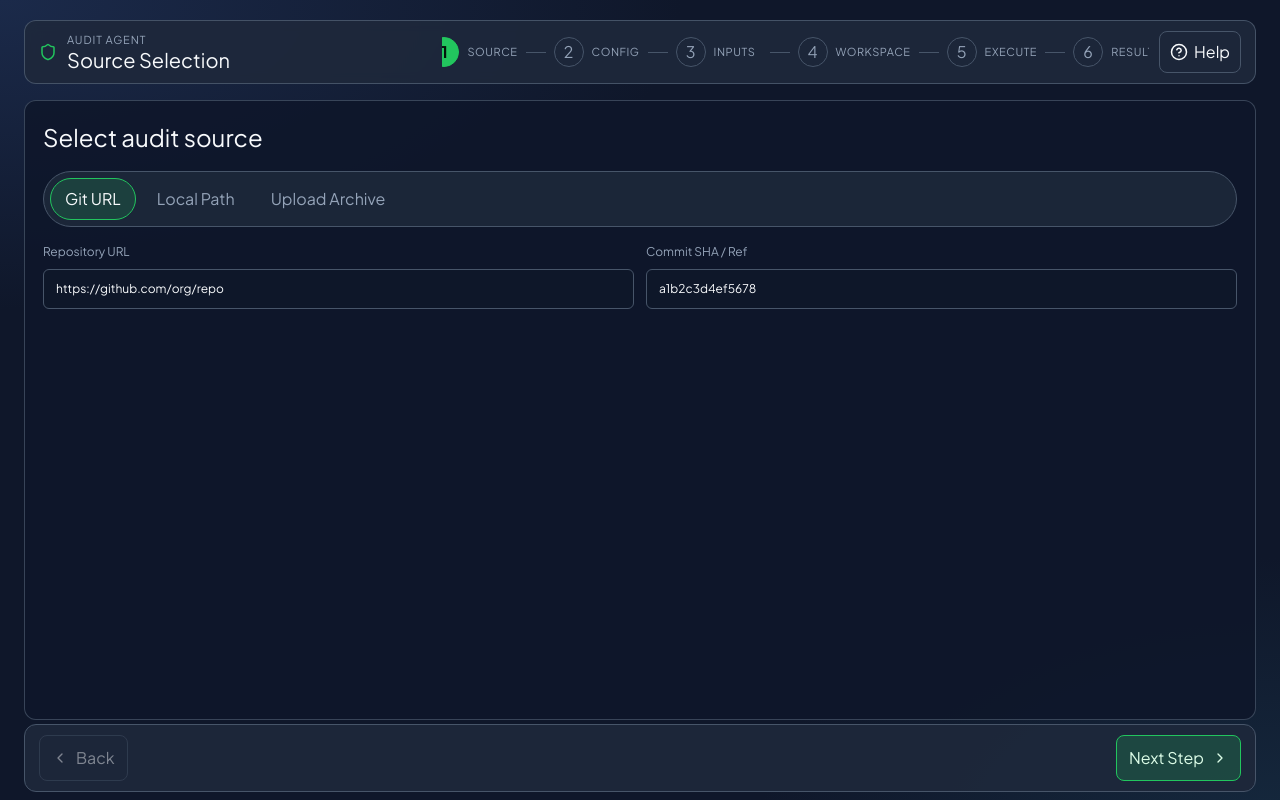
Test: App layout shell › syncs finding detail when a finding is selected in results view
Click the button named "step 6". click: [1088, 52]
box: x1=1073 y1=37 x2=1103 y2=67
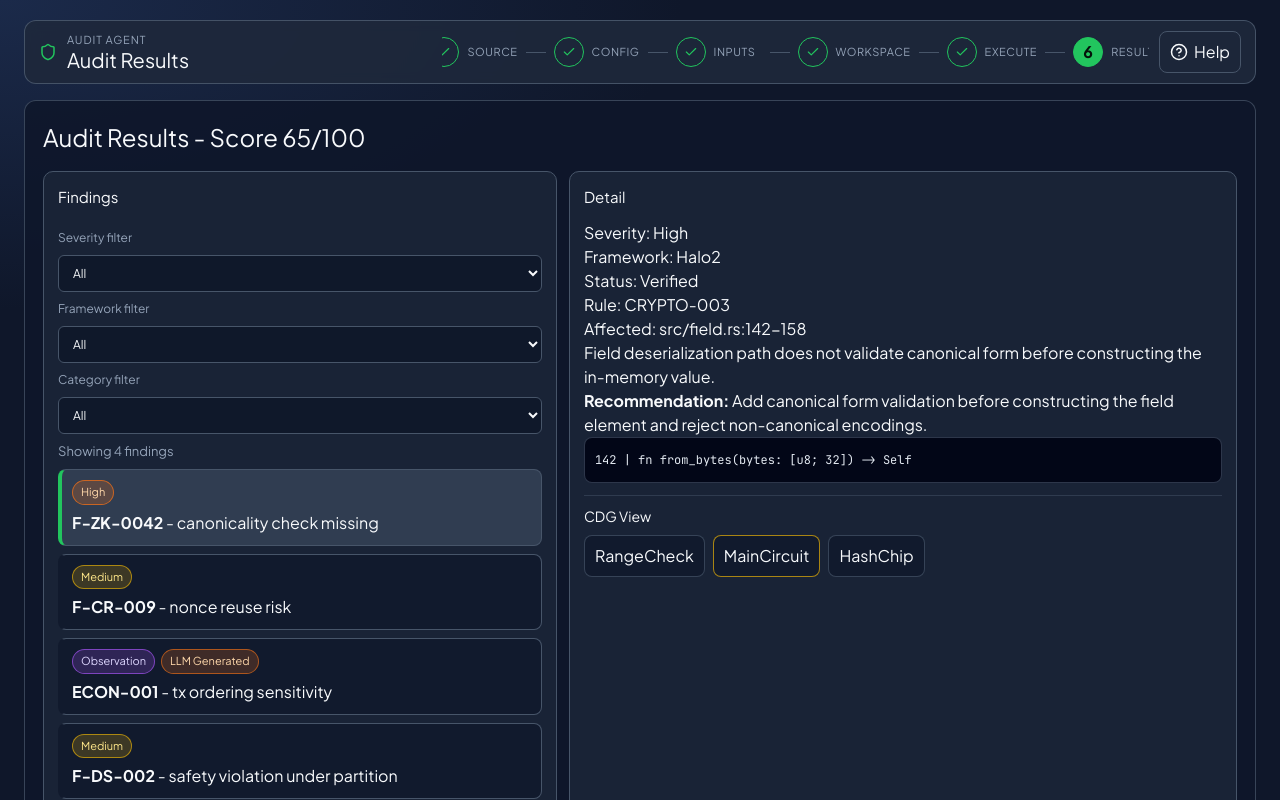
Click the button "Medium F-CR-009 - nonce reuse risk". click: [102, 577]
box: x1=58 y1=554 x2=542 y2=630
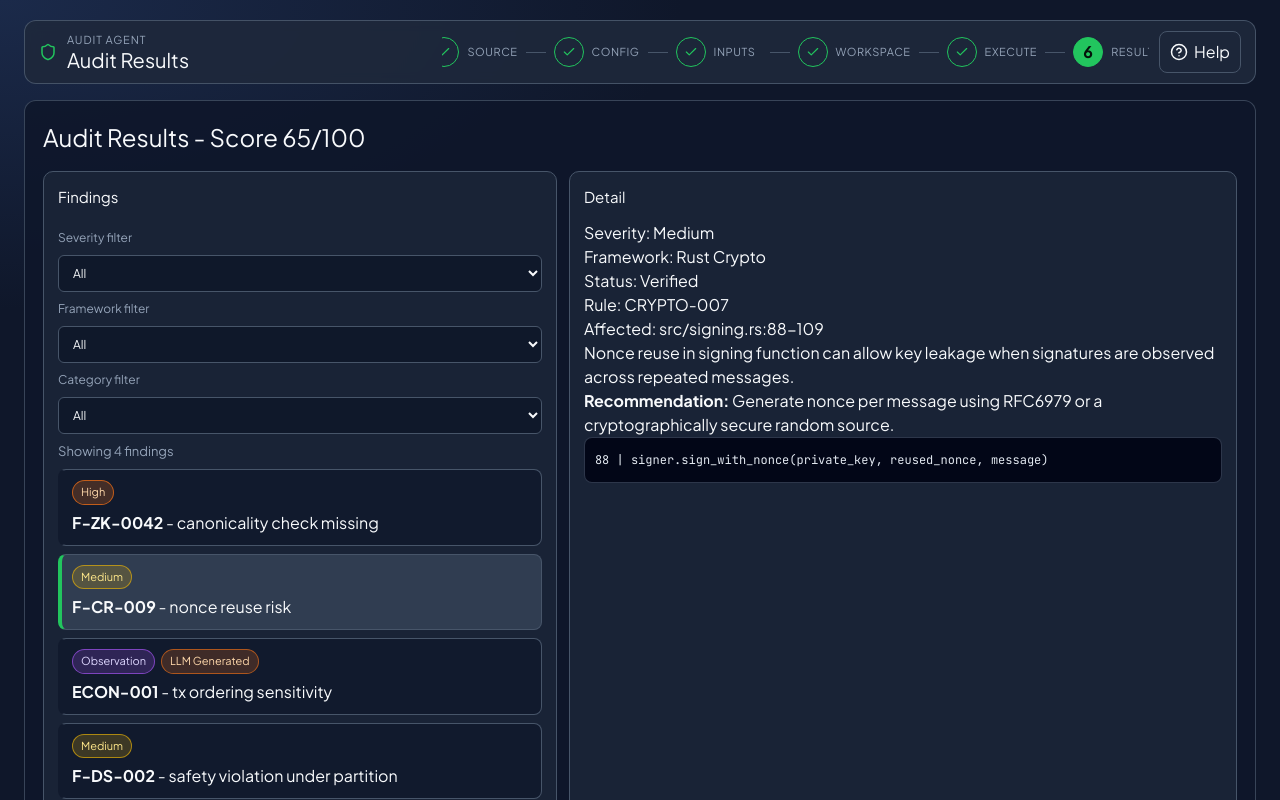
Now the text "Nonce reuse in signing function" is shown, box x1=584 y1=342 x2=1214 y2=386
Now the text "Framework: Rust Crypto" is shown, box x1=584 y1=246 x2=766 y2=266
